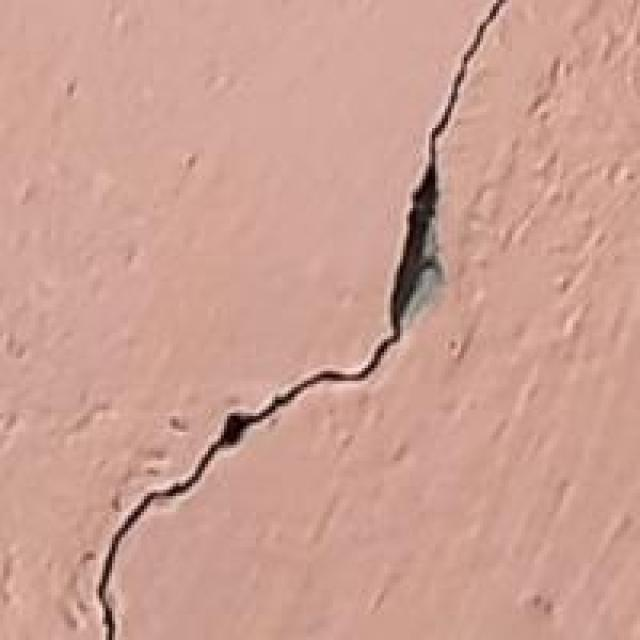Crack: (80, 0, 502, 637)
